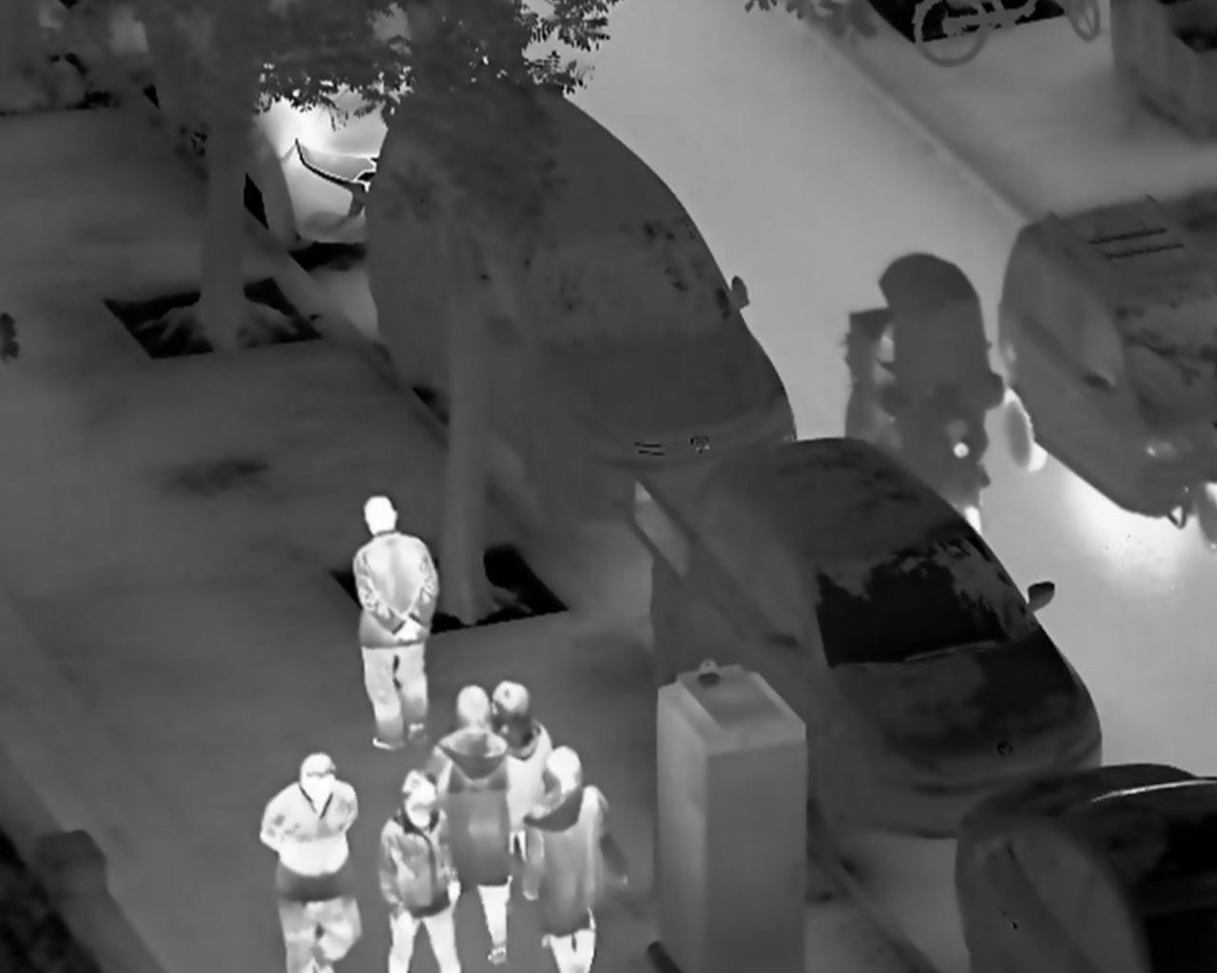person: (415, 683, 514, 964), (520, 745, 633, 973), (255, 745, 361, 973), (353, 495, 442, 752), (377, 766, 462, 973), (477, 671, 552, 845)
